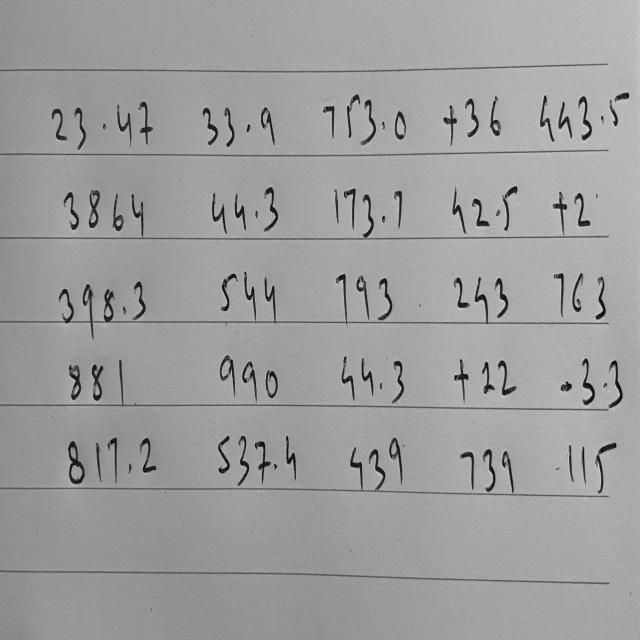Number: (44, 83, 157, 157), (50, 263, 150, 338), (532, 76, 632, 150), (54, 170, 148, 243), (60, 430, 162, 491), (320, 84, 410, 153), (210, 425, 304, 488), (440, 168, 521, 238), (197, 90, 280, 158), (554, 342, 626, 415), (212, 257, 282, 329), (335, 342, 409, 410), (203, 177, 284, 238), (329, 178, 407, 239), (546, 254, 613, 325), (447, 340, 519, 406), (213, 344, 286, 408), (60, 351, 134, 413), (436, 84, 506, 149), (452, 431, 520, 497), (444, 259, 512, 322), (344, 428, 408, 494), (331, 265, 399, 326), (562, 431, 620, 500), (545, 173, 595, 236)
